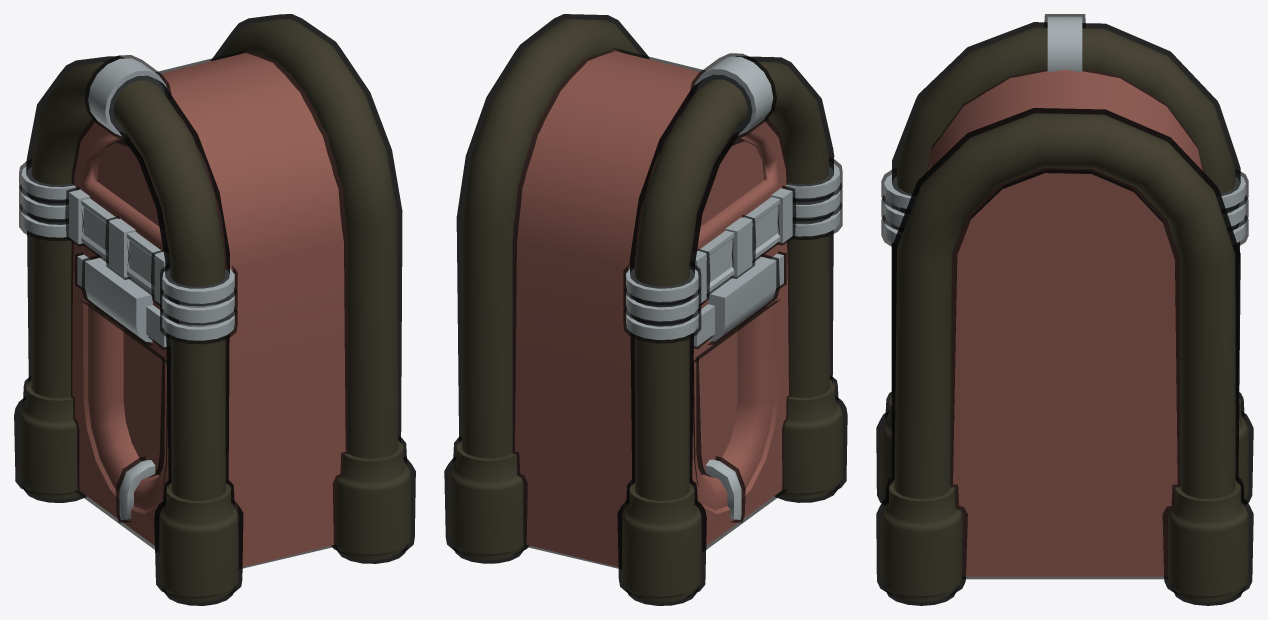
The model's file is jukebox line.fbx.
3 views of the same model, side by side, from view 1: azimuth 30°, elevation 25°; view 2: azimuth 150°, elevation 25°; view 3: azimuth 270°, elevation 25° (orthographic). The views are drawn at different scales.
Visible parts, largest first — view 1: pCube24; view 2: pCube24; view 3: pCube24.
Boxes of the visible parts, bbox=[...] form: pCube24: bbox=[14, 14, 415, 605]; pCube24: bbox=[444, 14, 847, 605]; pCube24: bbox=[876, 14, 1253, 605].
Size of the model in its own units: 18.56 by 33.99 by 23.74.
